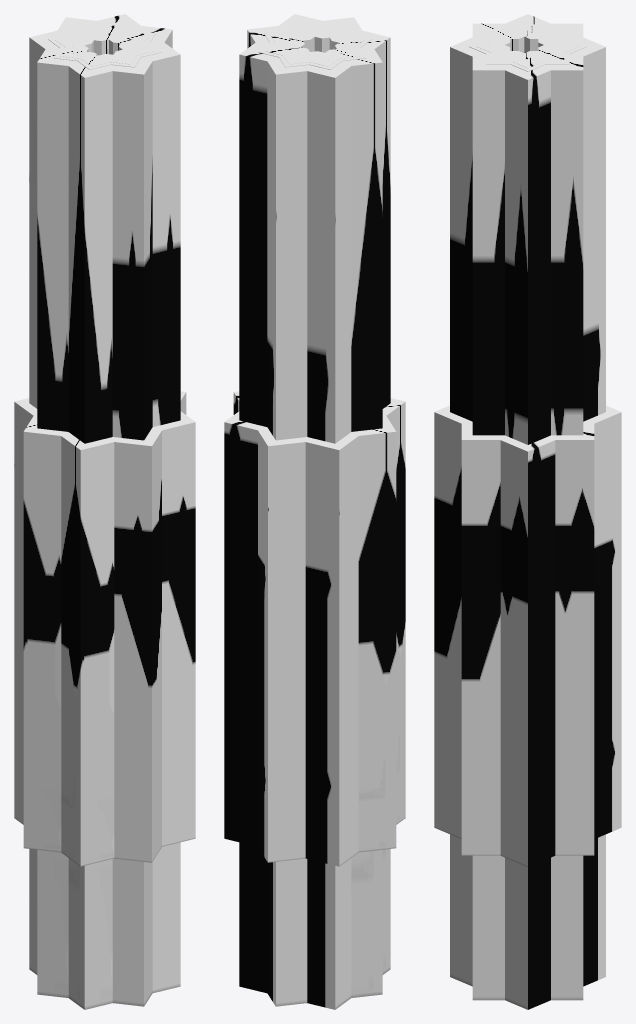
The model's file is Plinth.fbx.
The picture shows the model from 3 angles, left to right: view 1: azimuth 30°, elevation 25°; view 2: azimuth 150°, elevation 25°; view 3: azimuth 270°, elevation 25°; orthographic projection.
Visible parts, largest first — view 1: Whitebox_Plinth (4), Whitebox_Plinth (5), Whitebox_Plinth (3), Whitebox_Plinth, Decal; view 2: Whitebox_Plinth (4), Whitebox_Plinth (5), Whitebox_Plinth (3), Whitebox_Plinth, Decal; view 3: Whitebox_Plinth (4), Whitebox_Plinth (5), Whitebox_Plinth (3), Whitebox_Plinth, Decal.
Part boxes in pixels (x1,y1,x2,y2): Whitebox_Plinth (4): (29,14,180,1009); Whitebox_Plinth (5): (14,391,195,866); Whitebox_Plinth (3): (55,24,154,66); Whitebox_Plinth: (68,32,138,62); Decal: (48,21,161,69); Whitebox_Plinth (4): (239,14,390,1009); Whitebox_Plinth (5): (224,391,405,866); Whitebox_Plinth (3): (265,24,364,66); Whitebox_Plinth: (285,30,354,59); Decal: (258,21,371,69); Whitebox_Plinth (4): (450,14,605,1009); Whitebox_Plinth (5): (434,405,621,866); Whitebox_Plinth (3): (476,25,579,68); Whitebox_Plinth: (488,29,560,60); Decal: (469,22,586,71).
Size of the model in its own units: 3.66 by 20.06 by 3.66.
Materials: 2 (1 with a texture image).
